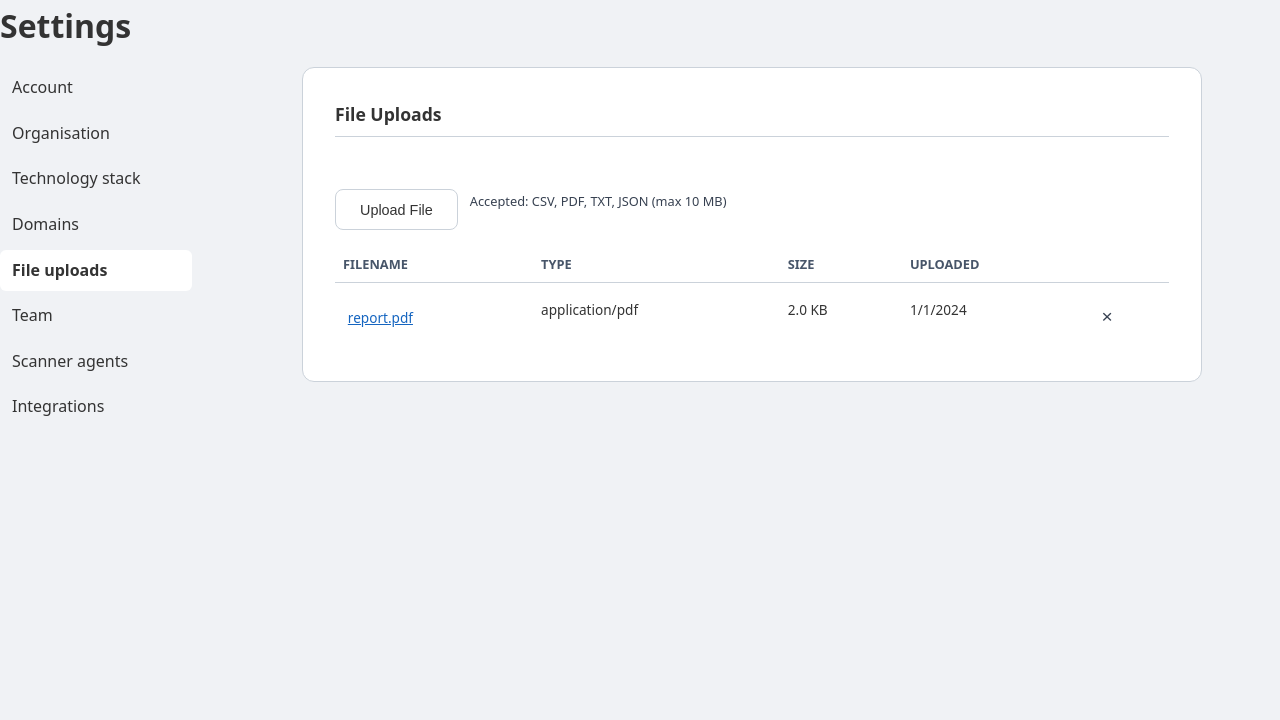
Uploads page › delete confirmation › shows the section error and closes the dialog when the API fails
Click the button named "Delete upload report.pdf".
click(1107, 317)  # box [1097,307,1117,326]
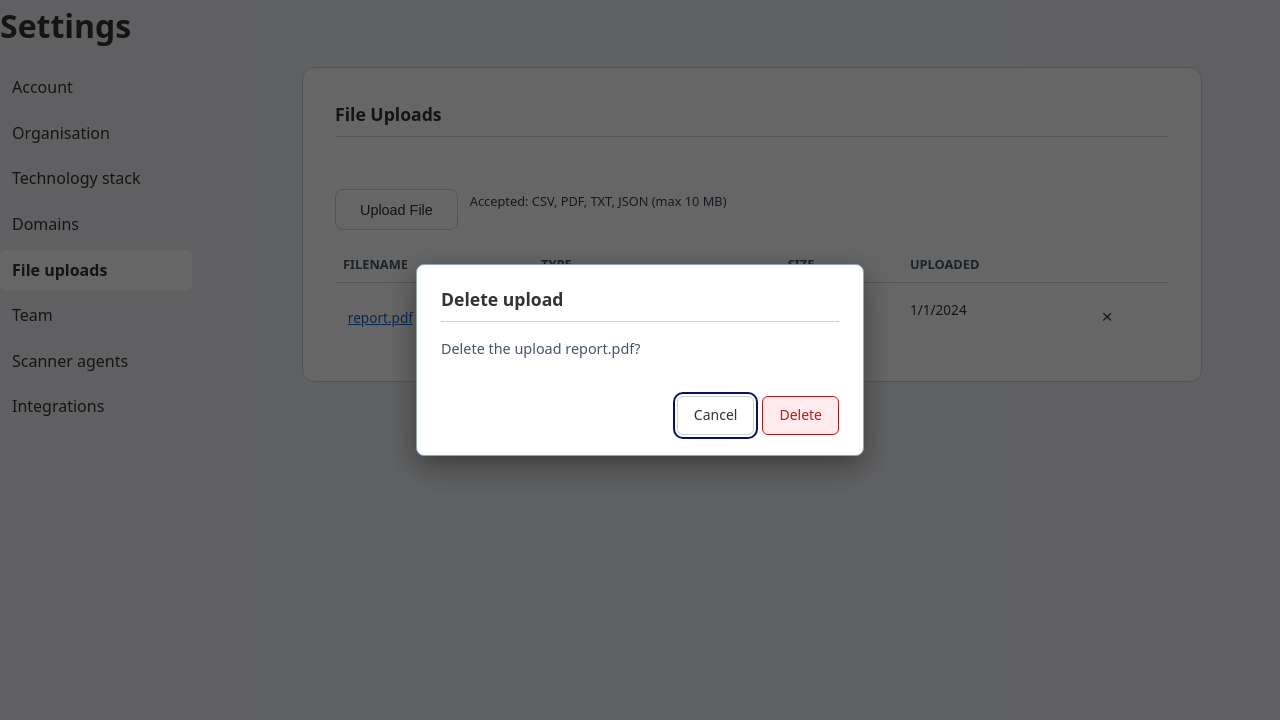
Click the button "Delete".
click(801, 415)  # box [762,396,839,435]
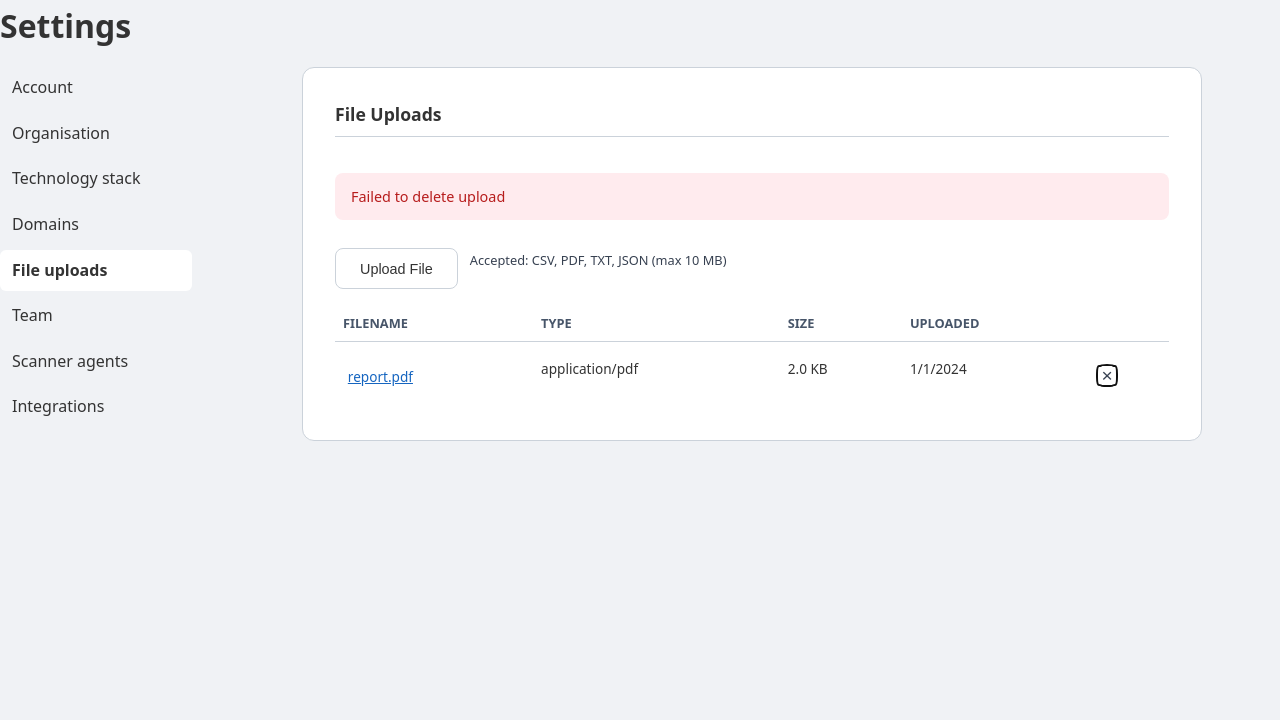
Now the dialog is gone
Now the text "Failed to delete upload" is shown, box [335,173,1169,220]
